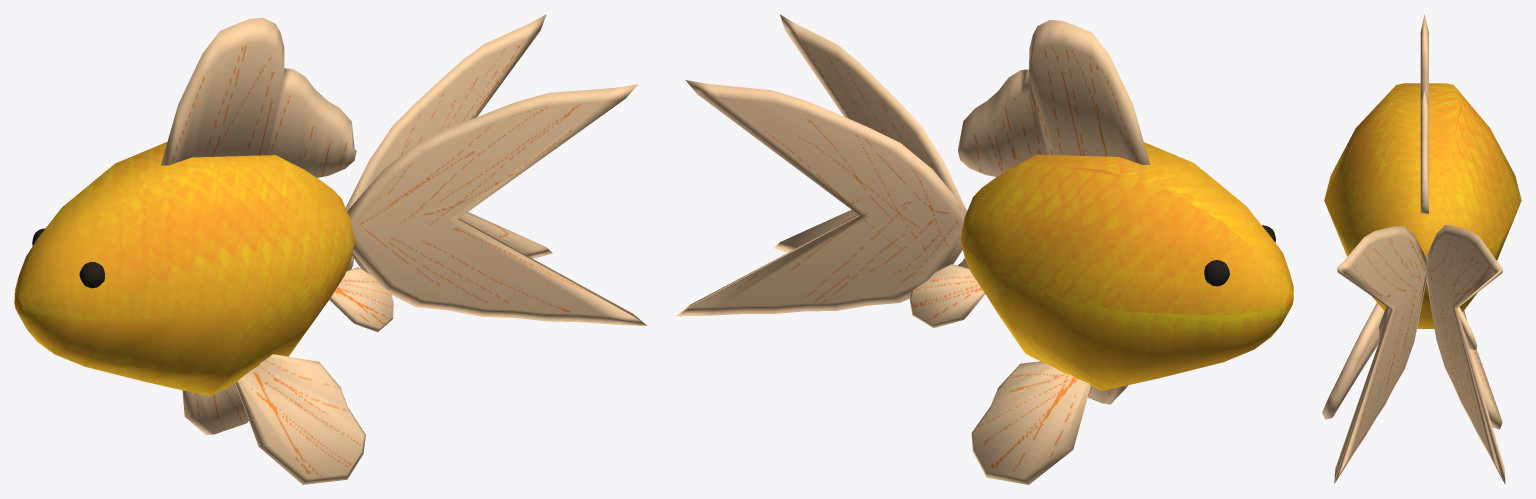
The model's file is goldfish.fbx.
The picture shows the model from 3 angles, left to right: view 1: azimuth 30°, elevation 25°; view 2: azimuth 150°, elevation 25°; view 3: azimuth 270°, elevation 25°; orthographic projection. The views are drawn at different scales.
Parts seen in each view (by area): view 1: Cube.007; view 2: Cube.007; view 3: Cube.007.
Boxes of the visible parts, <box> form: Cube.007: <box>14,14,647,484</box>; Cube.007: <box>676,14,1293,484</box>; Cube.007: <box>1322,14,1521,484</box>.
Size of the model in its own units: 354 by 259 by 119.
